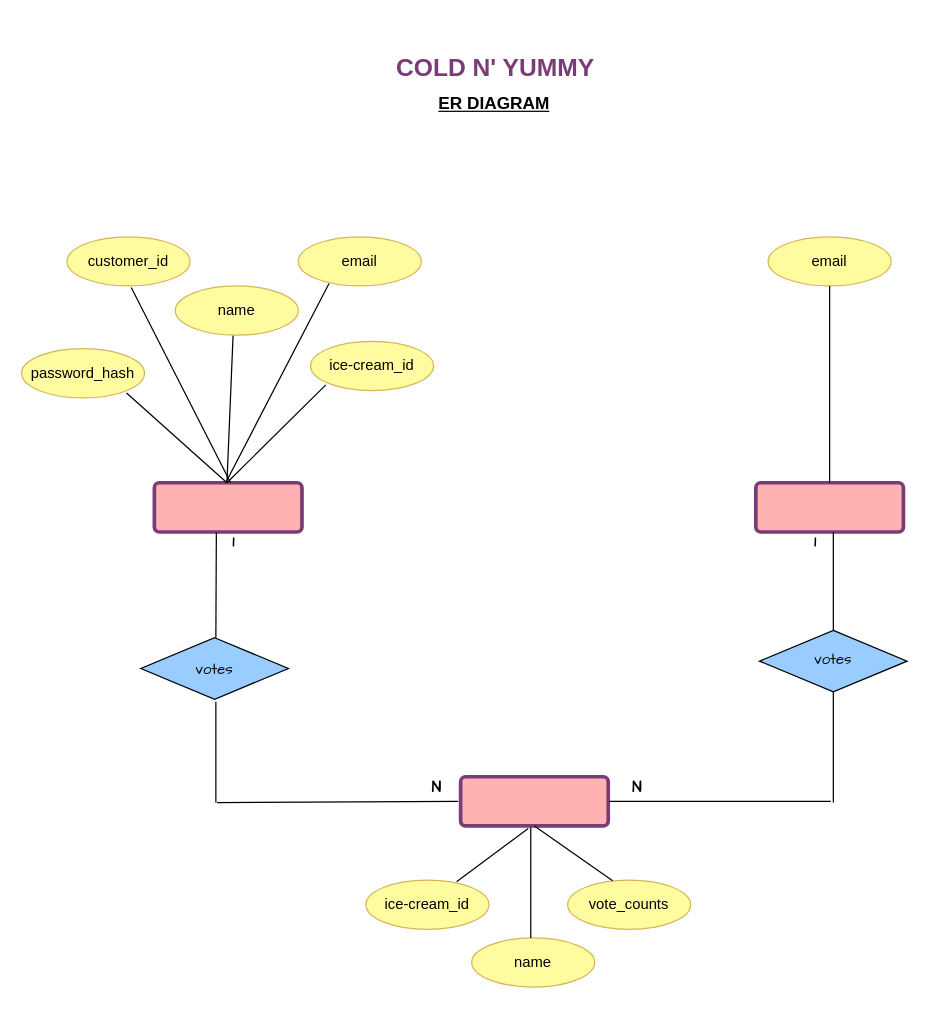
This 929x1009 diagram has some shape labels left out. Each missing label, with the centre of its shape:
ice-creams: (533,800)
regi_customers: (227,506)
unreg_customers: (829,506)
